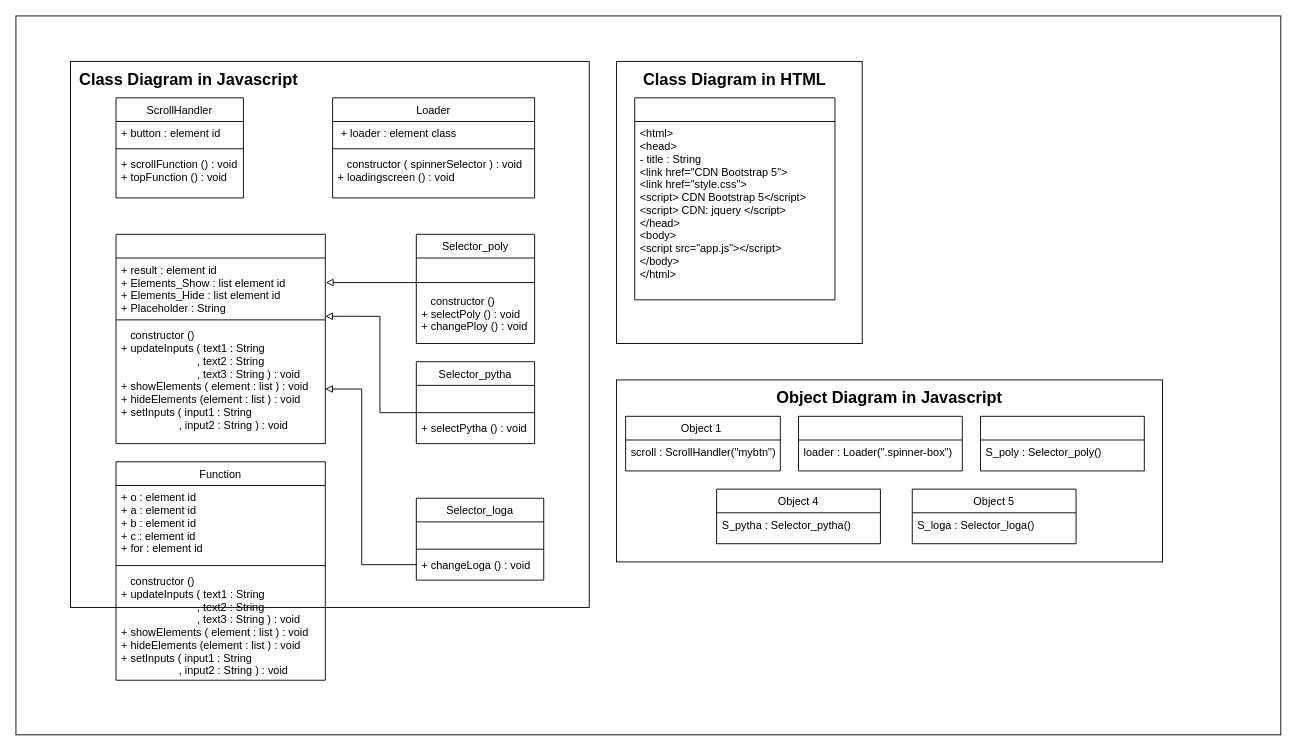
Image size: 1297x751. Some labels were removed from this diagram. The shapes that lost their labels are listed below. From the top down, each one's box as (x1, y1, x2, y2) in pixels, then its label:
(634, 97, 835, 300): HTML
(115, 233, 325, 444): Selector
(798, 415, 962, 471): Object 2
(980, 415, 1144, 471): Object 3
